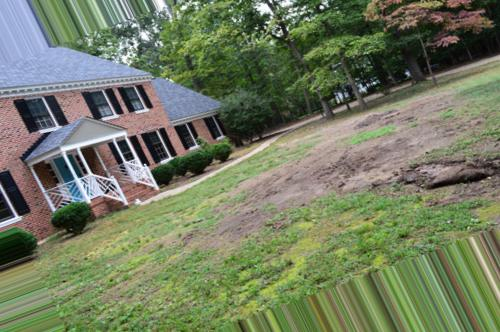patch: (247, 149, 449, 200), (181, 214, 278, 253), (317, 114, 399, 151)
